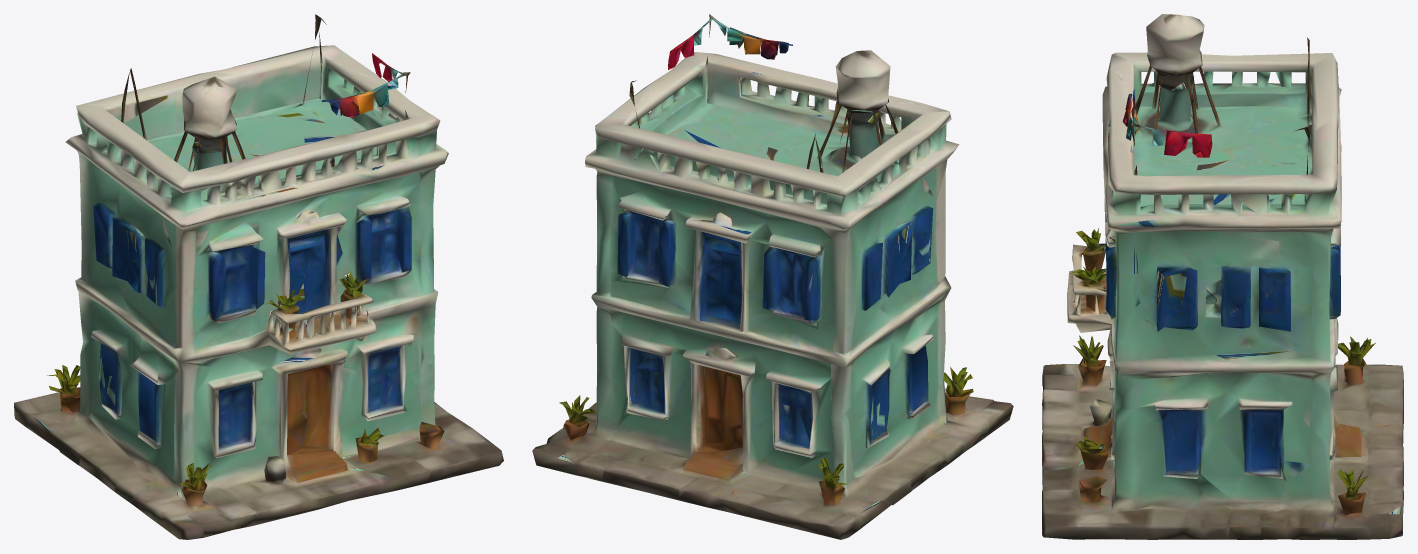
Rendered from homeb.glb.
3 views of the same model, side by side, from view 1: azimuth 30°, elevation 25°; view 2: azimuth 150°, elevation 25°; view 3: azimuth 270°, elevation 25° (orthographic). The views are drawn at different scales.
Visible parts, largest first — view 1: tripo_node_f02b480f-d41e-4a65-a8dd-b16f2a8e6acf; view 2: tripo_node_f02b480f-d41e-4a65-a8dd-b16f2a8e6acf; view 3: tripo_node_f02b480f-d41e-4a65-a8dd-b16f2a8e6acf.
Part boxes in pixels (x1,y1,x2,y2): tripo_node_f02b480f-d41e-4a65-a8dd-b16f2a8e6acf: (14,14,503,539); tripo_node_f02b480f-d41e-4a65-a8dd-b16f2a8e6acf: (532,14,1013,539); tripo_node_f02b480f-d41e-4a65-a8dd-b16f2a8e6acf: (1042,14,1403,539).
Bounding box in the file's own units: 0.8216 × 0.9652 × 0.7697.
1 material, 1 textured.
